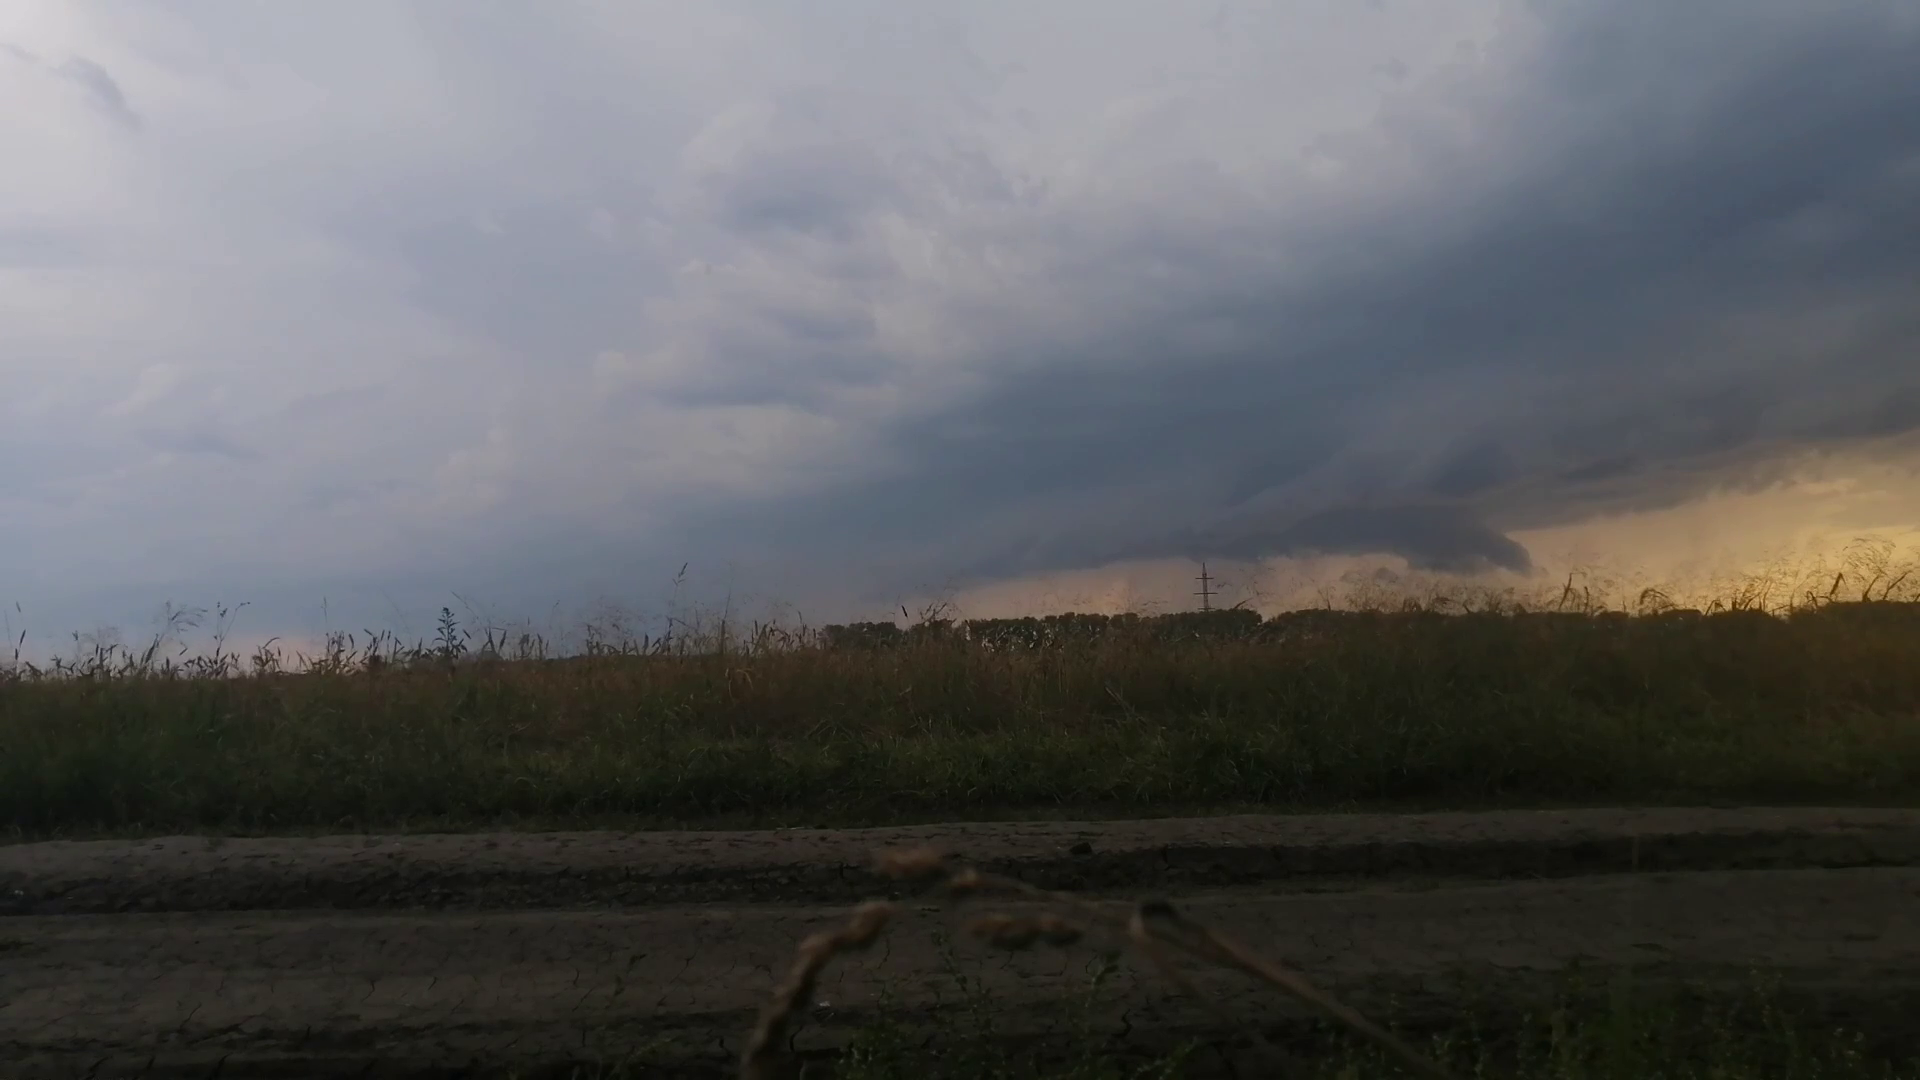FFD: (7, 596, 845, 663)
RFD: (1097, 555, 1325, 617)
mesocyclone: (845, 28, 1900, 611)
wall cloud: (849, 373, 1915, 607)
